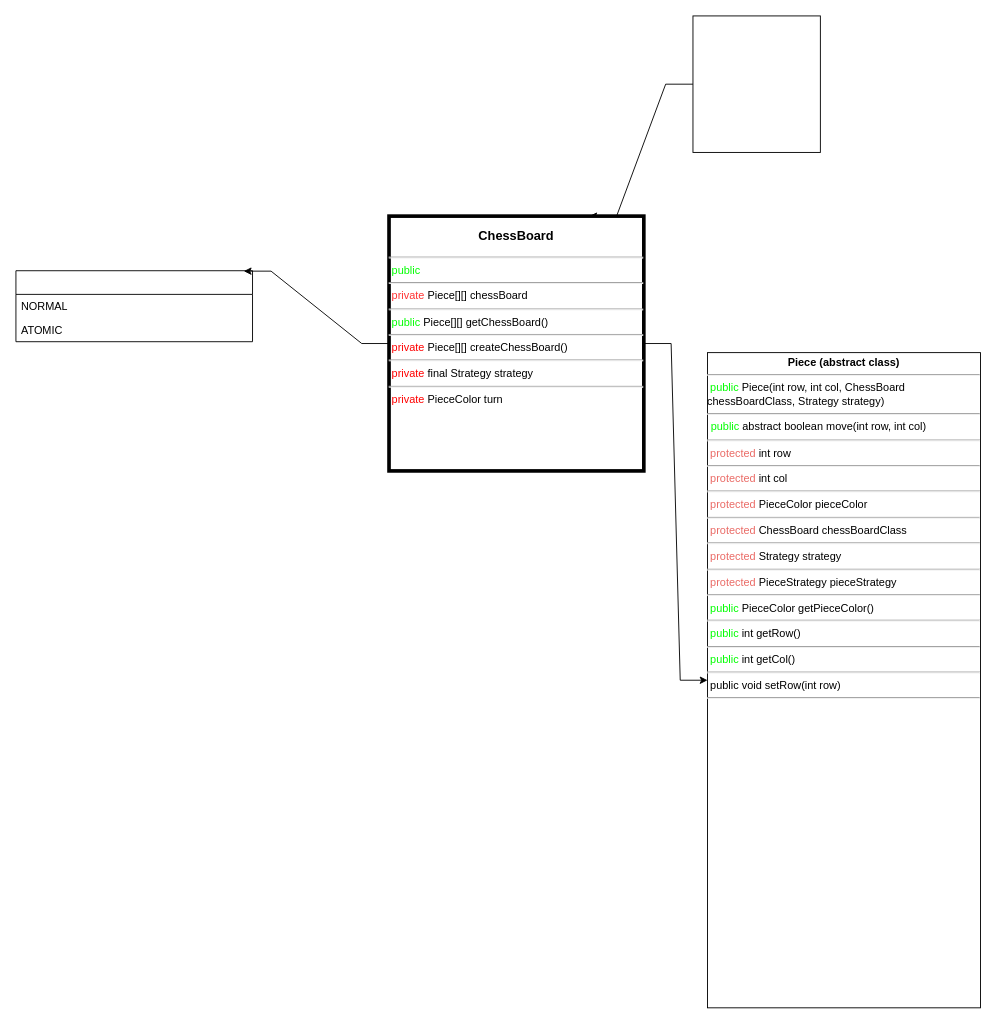
Image size: 996x1024. Some labels were removed from this diagram. Each missing label, with the box of its shape:
Class Creates an instance of ChessBoard: (692, 15, 820, 152)
GameMode (enum): (15, 270, 253, 342)
